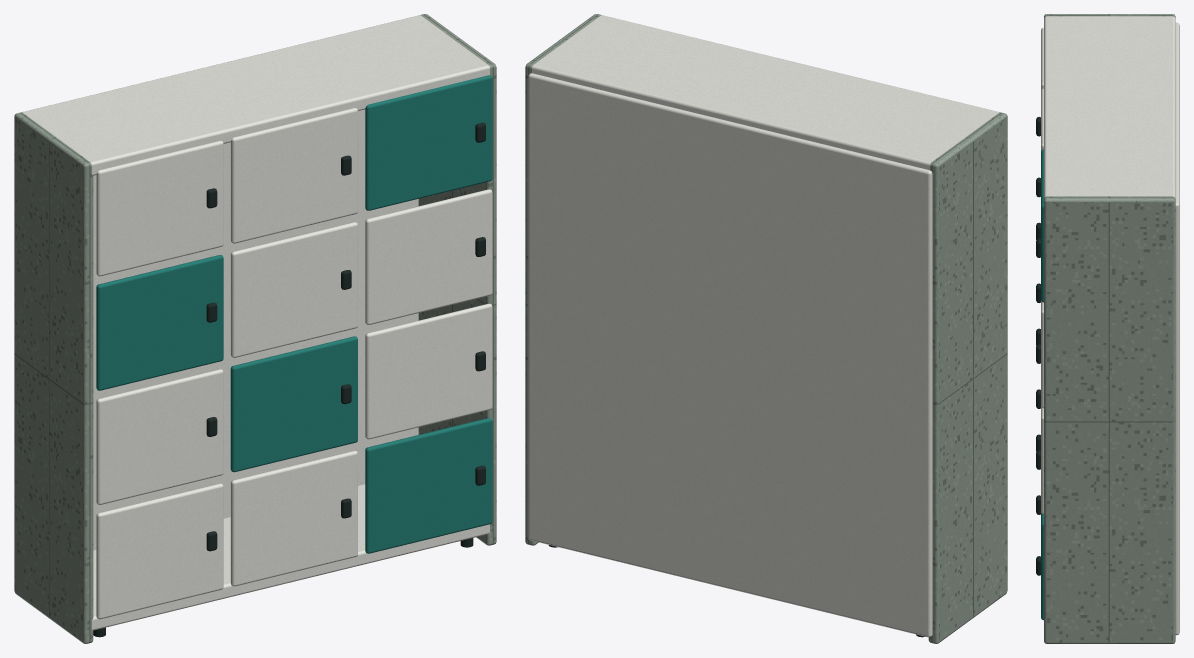
File: detail-locker-1.glb
3 views of the same model, side by side, from view 1: azimuth 30°, elevation 25°; view 2: azimuth 150°, elevation 25°; view 3: azimuth 270°, elevation 25° (orthographic). The views are drawn at different scales.
Parts seen in each view (by area): view 1: door (×12), cabinet_side (×2), cabinet_cap (×2), cabinet_back; view 2: cabinet_back, cabinet_side (×2), cabinet_cap; view 3: cabinet_side (×2), cabinet_cap, cabinet_back, door (×4).
Part boxes in pixels (x1,y1,x2,y2): door (×12): (96, 75, 492, 619); cabinet_side (×2): (14, 14, 496, 643); cabinet_cap (×2): (22, 15, 489, 630); cabinet_back: (93, 109, 418, 550); cabinet_back: (528, 73, 932, 637); cabinet_side (×2): (525, 14, 1007, 643); cabinet_cap: (532, 15, 999, 170); cabinet_side (×2): (1044, 14, 1175, 643); cabinet_cap: (1044, 16, 1175, 198); cabinet_back: (1175, 22, 1179, 635); door (×4): (1041, 149, 1043, 620).
Size of the model in its own units: 1.85 by 2.05 by 0.6.
4 materials, 4 textured.
